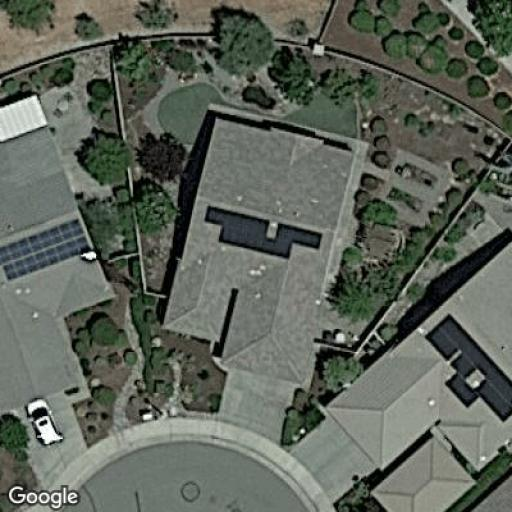solar-panel: (424, 311, 511, 424), (202, 204, 324, 260), (0, 218, 86, 282)
